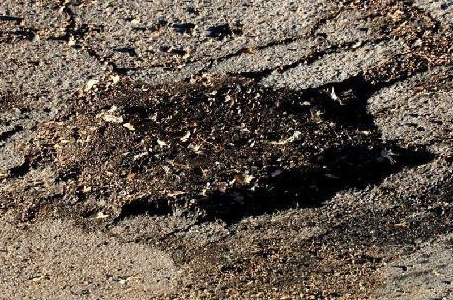pothole: (12, 70, 437, 228)
